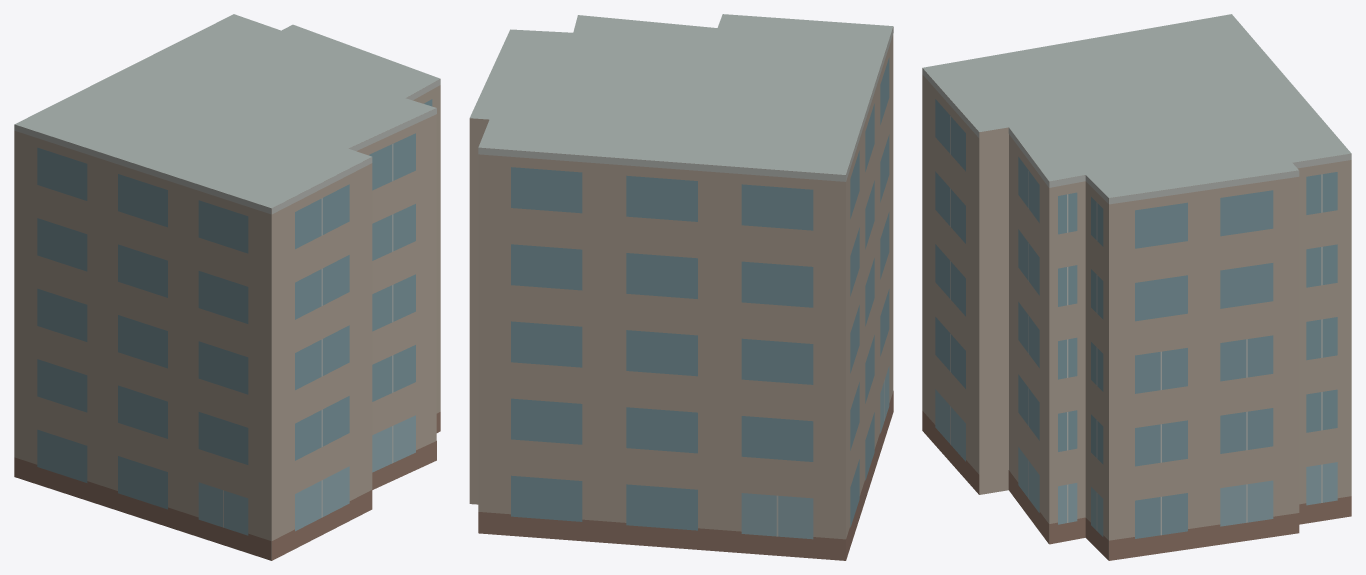
Rendered from survey-upis-32850755.glb.
The picture shows the model from 3 angles, left to right: view 1: azimuth 30°, elevation 25°; view 2: azimuth 150°, elevation 25°; view 3: azimuth 270°, elevation 25°; orthographic projection. The views are drawn at different scales.
Visible parts, largest first — view 1: survey-upis-32850755.tmp; view 2: survey-upis-32850755.tmp; view 3: survey-upis-32850755.tmp.
Boxes of the visible parts, box(x1,y1,x2,y2) form: survey-upis-32850755.tmp: box(14, 14, 440, 560); survey-upis-32850755.tmp: box(469, 14, 893, 560); survey-upis-32850755.tmp: box(922, 14, 1351, 560).
Bounding box in the file's own units: 15.02 × 13.8 × 14.81.
